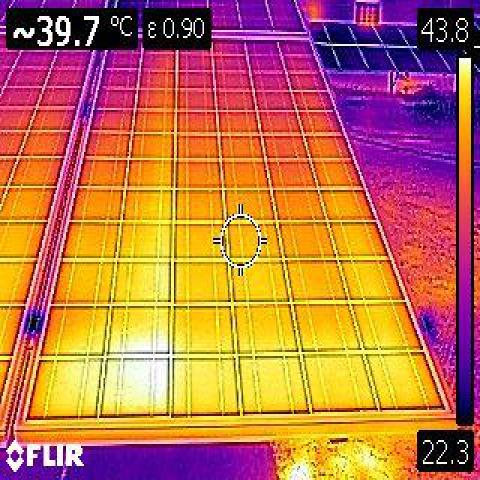fault: (105, 357, 167, 414)
